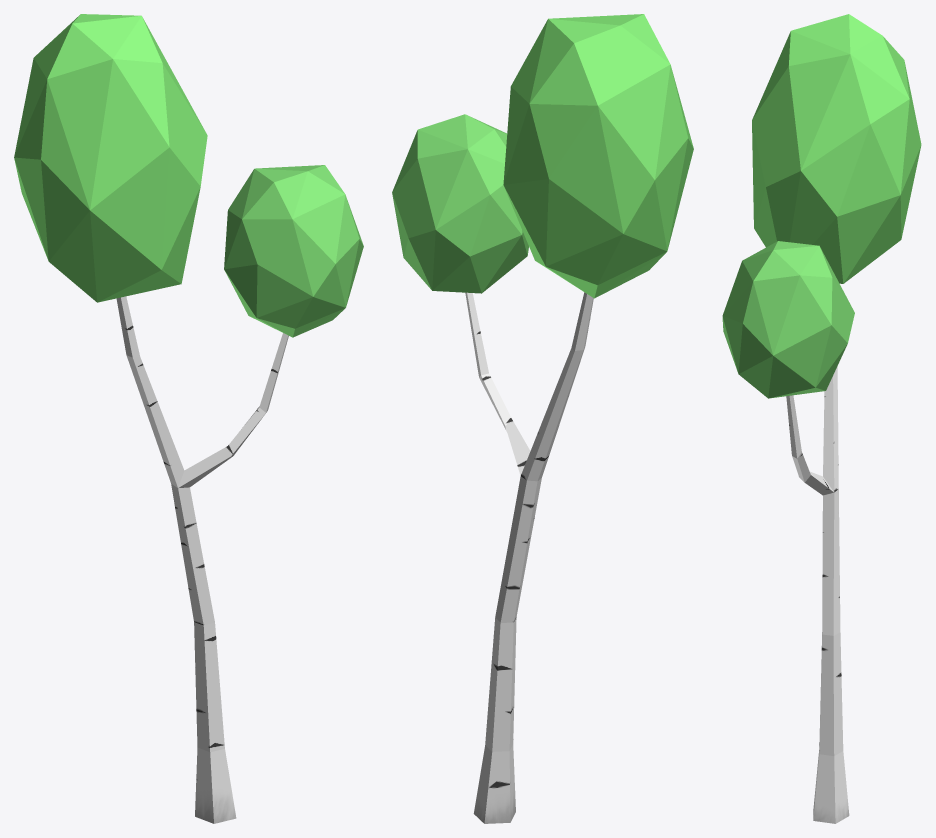
The model's file is Birch_Tree_m_02.fbx.
The picture shows the model from 3 angles, left to right: view 1: azimuth 30°, elevation 25°; view 2: azimuth 150°, elevation 25°; view 3: azimuth 270°, elevation 25°; orthographic projection. The views are drawn at different scales.
Parts seen in each view (by area): view 1: Birch_Tree_m_02; view 2: Birch_Tree_m_02; view 3: Birch_Tree_m_02.
Boxes of the visible parts, box(x1,y1,x2,y2) form: Birch_Tree_m_02: box(14, 14, 363, 823); Birch_Tree_m_02: box(392, 14, 693, 823); Birch_Tree_m_02: box(722, 14, 921, 823).
Size of the model in its own units: 372 by 970 by 236.
